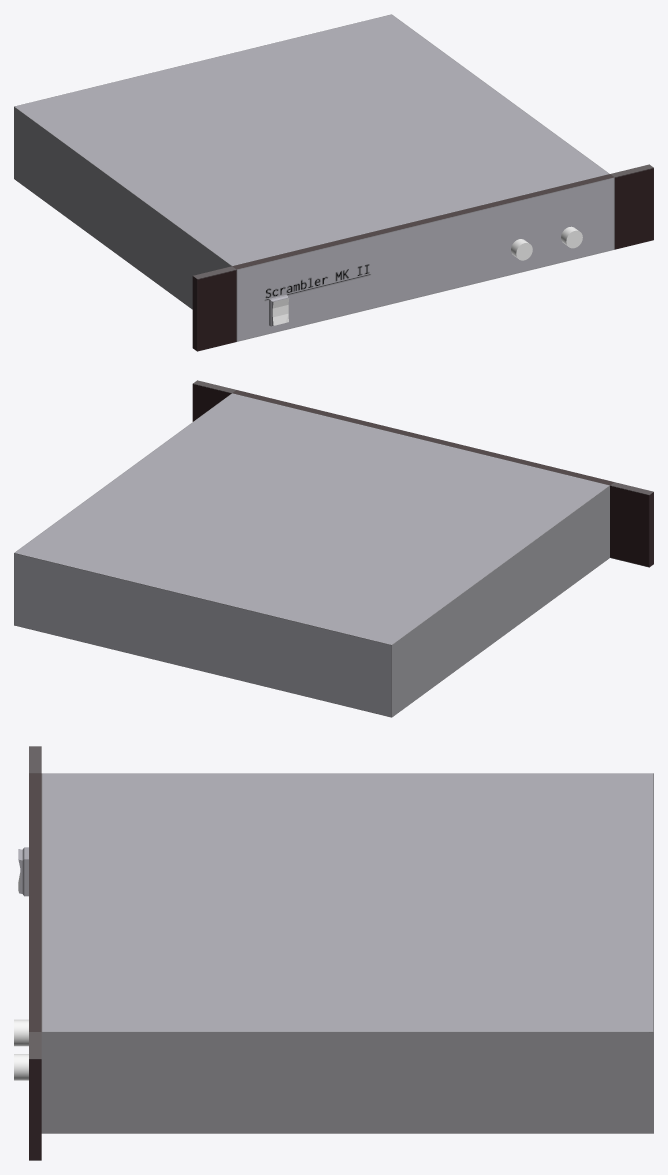
The model's file is ScramblerMkII(d2).fbx.
3 renders of one model, top to bottom at view 1: azimuth 30°, elevation 25°; view 2: azimuth 150°, elevation 25°; view 3: azimuth 270°, elevation 25°, orthographic. The views are drawn at different scales.
Parts seen in each view (by area): view 1: pCube1; view 2: pCube1; view 3: pCube1.
Boxes of the visible parts, x1,y1,x2,y2 form: pCube1: (14,14,653,351); pCube1: (14,380,653,717); pCube1: (29,746,653,1160).
Size of the model in its own units: 0.58 by 0.088 by 0.5018.
1 material, 1 textured.
